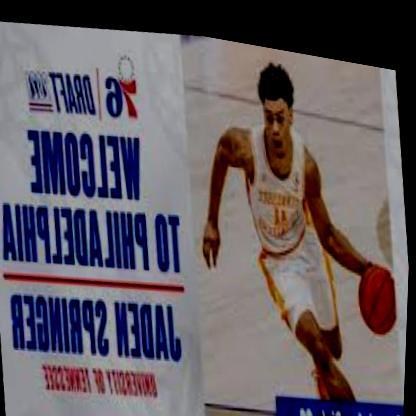basketball: (355, 248, 401, 326)
